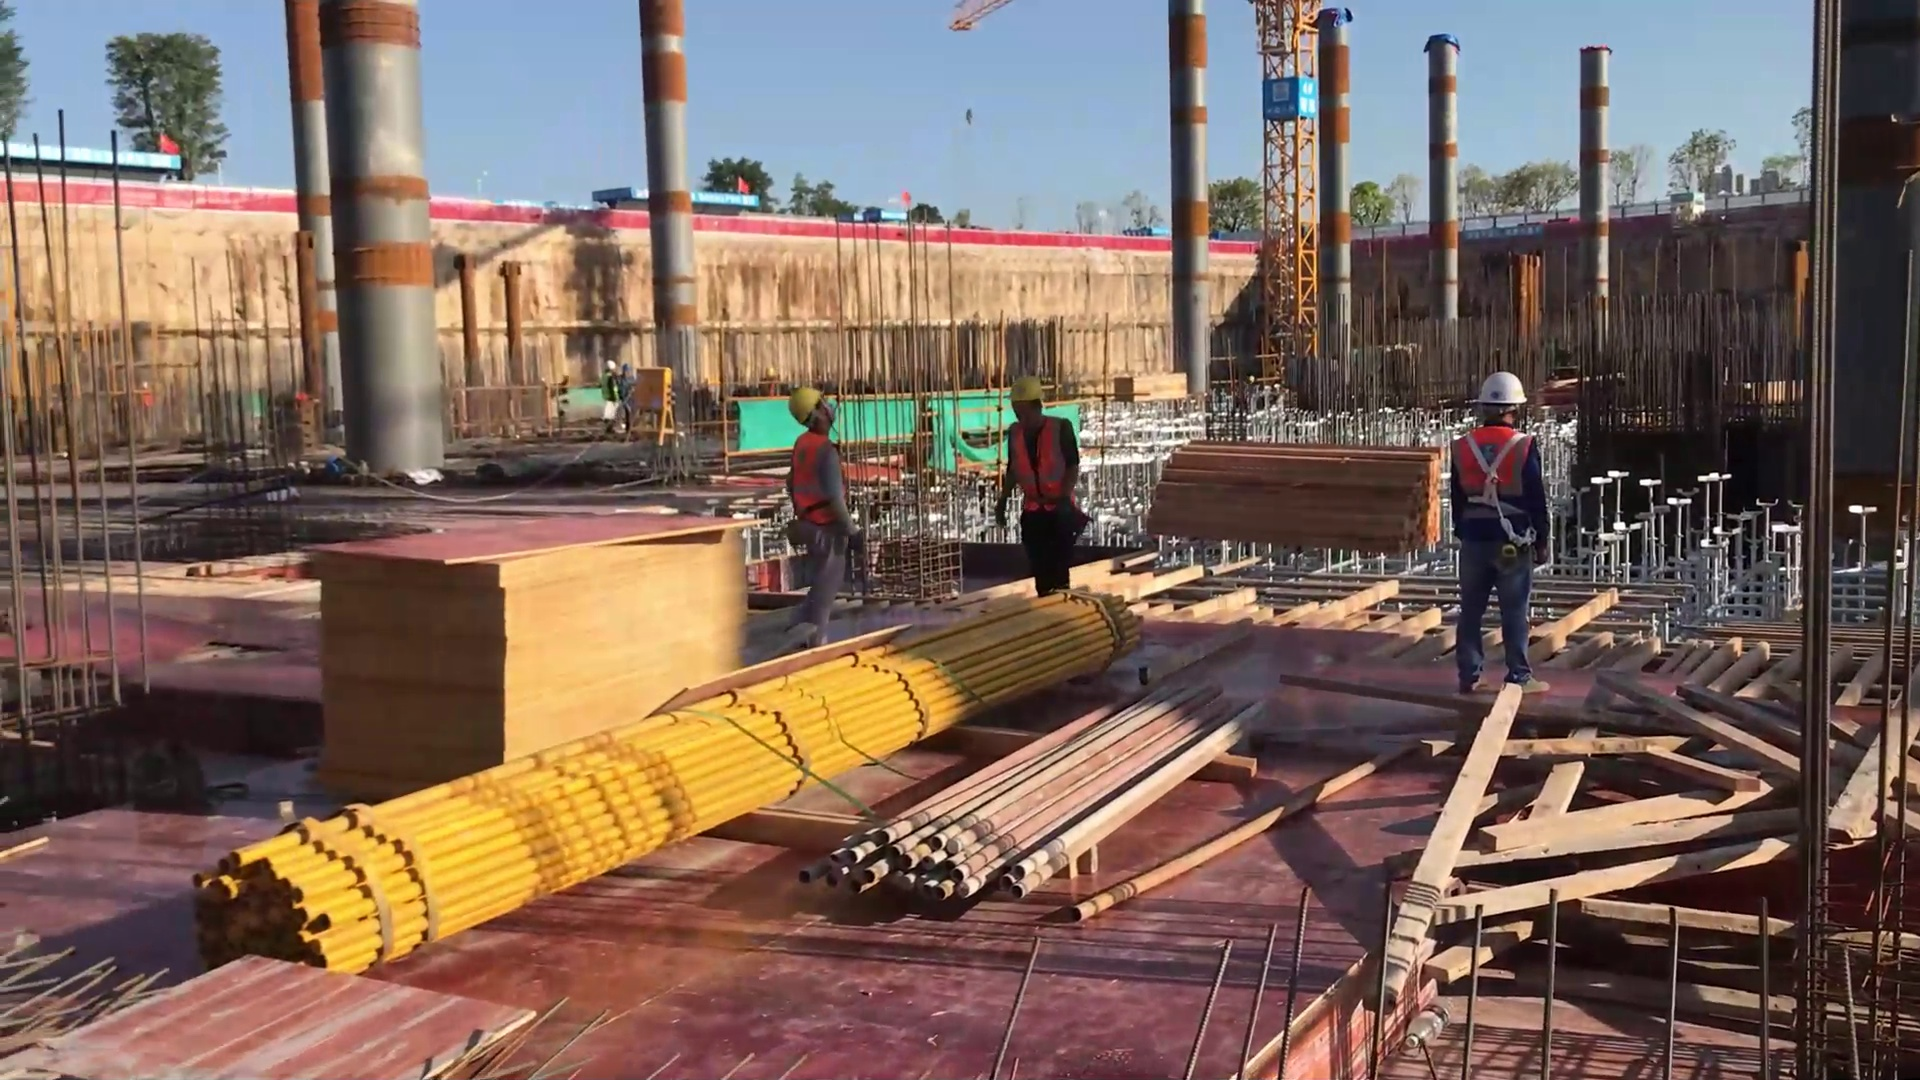helmet: (1469, 370, 1532, 411), (785, 387, 824, 425), (1006, 372, 1050, 406)
person: (1438, 361, 1557, 704), (983, 368, 1099, 605), (775, 379, 871, 652)
vest: (1449, 425, 1536, 547), (1004, 416, 1085, 520), (789, 427, 850, 536)
